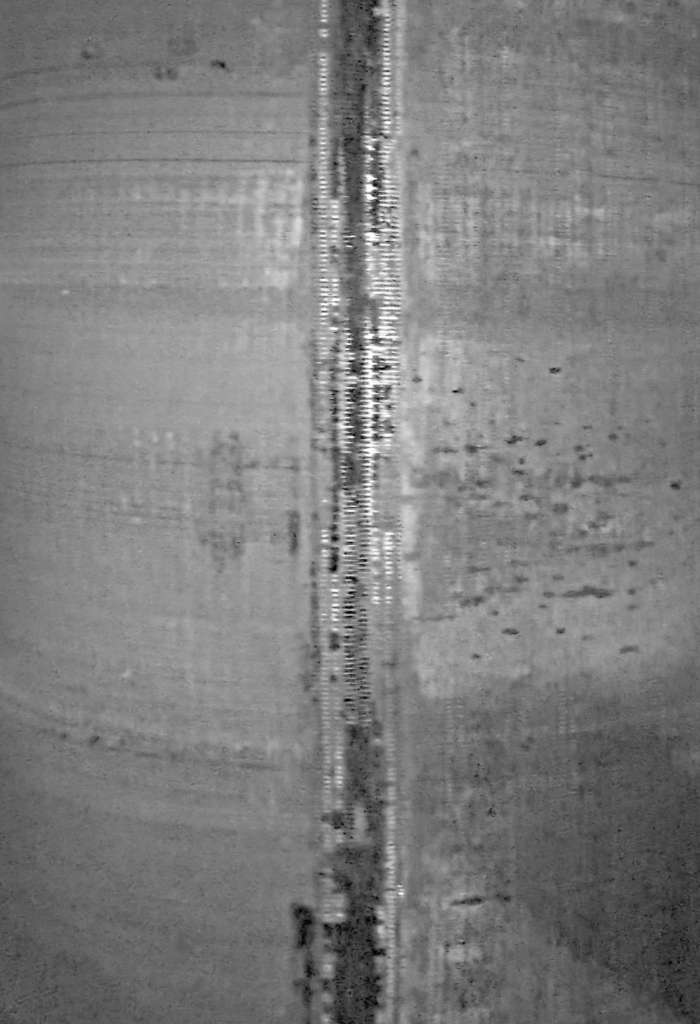splice: (306, 2, 412, 1022)
